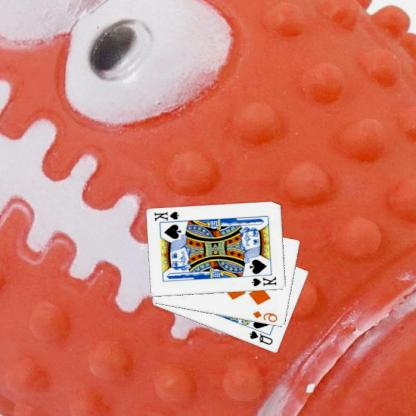9D: (252, 308, 281, 324)
KS: (154, 209, 185, 225), (251, 274, 279, 288)
QS: (248, 328, 276, 346)
